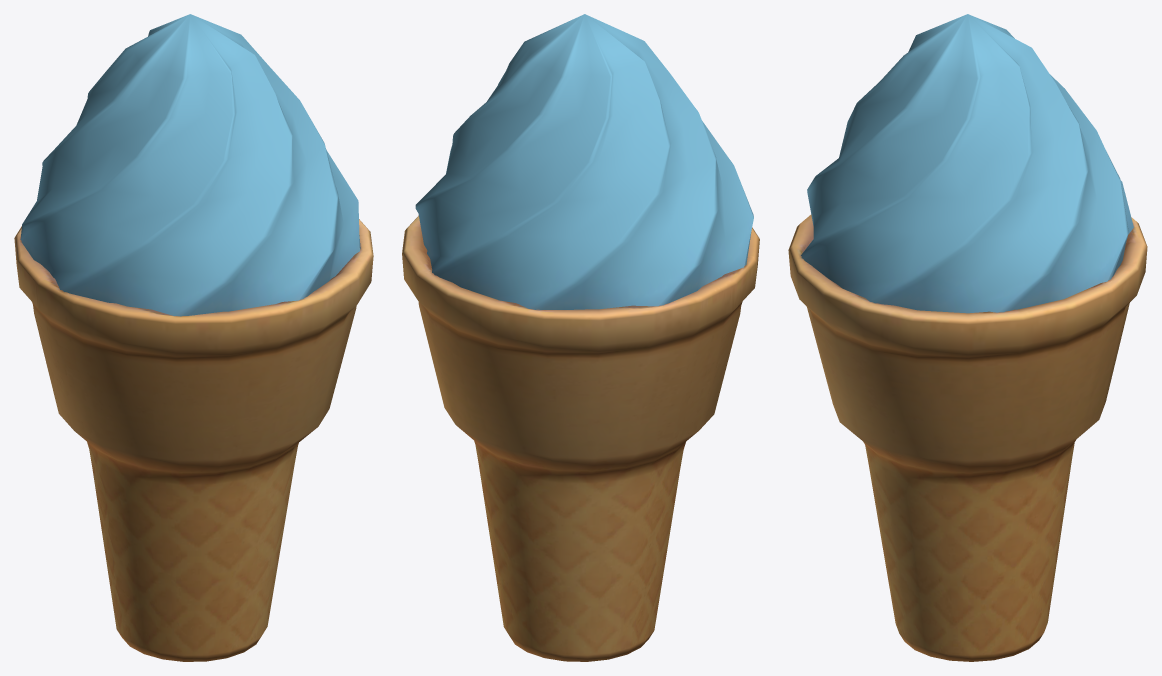
The model's file is 0-icecream_blue.fbx.
3 renders of one model, left to right at view 1: azimuth 30°, elevation 25°; view 2: azimuth 150°, elevation 25°; view 3: azimuth 270°, elevation 25°, orthographic.
Parts seen in each view (by area): view 1: 0-icecream_blue; view 2: 0-icecream_blue; view 3: 0-icecream_blue.
Boxes of the visible parts, x1,y1,x2,y2 form: 0-icecream_blue: (14, 14, 373, 661); 0-icecream_blue: (402, 14, 759, 661); 0-icecream_blue: (788, 14, 1147, 661).
Size of the model in its own units: 48.04 by 91.6 by 48.04.
